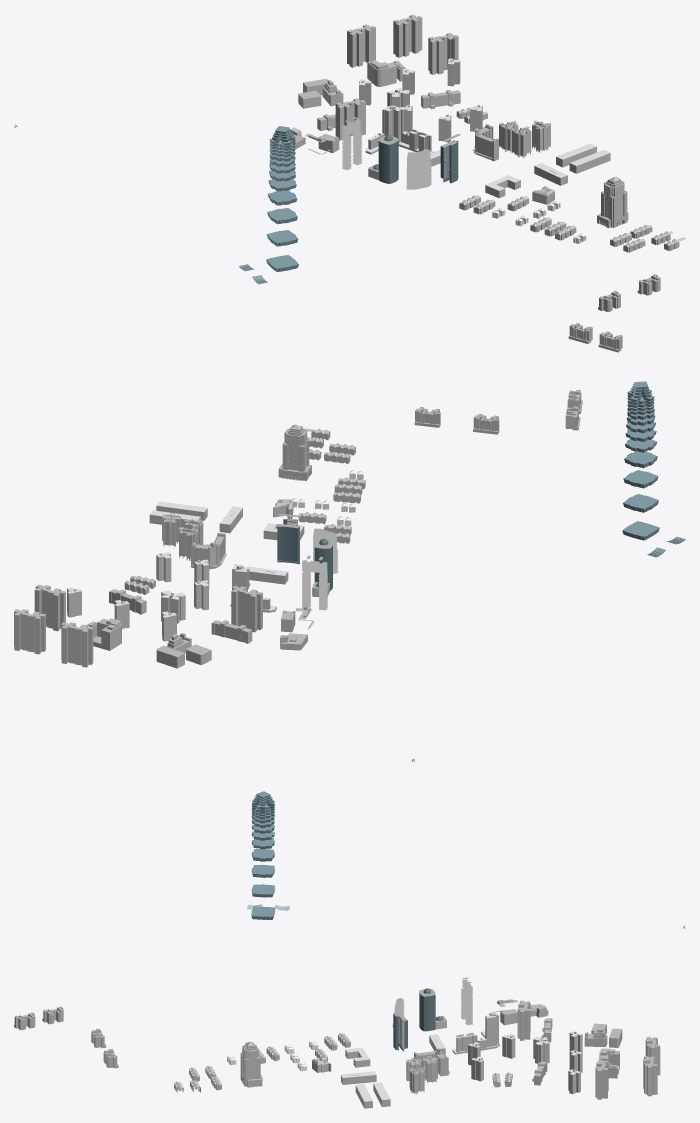
Rendered from lujiazui-37.glb.
3 views of the same model, one above another, from view 1: azimuth 30°, elevation 25°; view 2: azimuth 150°, elevation 25°; view 3: azimuth 270°, elevation 25° (orthographic). The views are drawn at different scales.
Visible parts, largest first — view 1: source_6189_Mat3d66-1303573-560-2734_part0, source_6210_房4_part0, source_4862_Mat3d66-1303573-2178-3161_part0, source_6186_Mat3d66-1303573-557-8885_part0, source_6240_Mat3d66-1303573-2154-1031_part0, source_6207_Mat3d66-1303573-11-3935_part0, source_6236_Mat3d66-1303573-306-9553_part0, source_5048_Mat3d66-1303573-200-2228_part0, source_4990_13区前排楼简模_xl_part0, source_4964_46_jz_part0, source_6211_房1_part0, source_6190_Mat3d66-1303573-561-717_part0 (+3 smaller); view 2: source_6189_Mat3d66-1303573-560-2734_part0, source_4862_Mat3d66-1303573-2178-3161_part0, source_6210_房4_part0, source_6186_Mat3d66-1303573-557-8885_part0, source_6240_Mat3d66-1303573-2154-1031_part0, source_6207_Mat3d66-1303573-11-3935_part0, source_5048_Mat3d66-1303573-200-2228_part0, source_4964_46_jz_part0, source_6236_Mat3d66-1303573-306-9553_part0, source_4990_13区前排楼简模_xl_part0, source_6190_Mat3d66-1303573-561-717_part0, source_6193_Mat3d66-1303573-564-4755_part0 (+2 smaller); view 3: source_6210_房4_part0, source_4862_Mat3d66-1303573-2178-3161_part0, source_6189_Mat3d66-1303573-560-2734_part0, source_6186_Mat3d66-1303573-557-8885_part0, source_6207_Mat3d66-1303573-11-3935_part0, source_6236_Mat3d66-1303573-306-9553_part0, source_5048_Mat3d66-1303573-200-2228_part0, source_6240_Mat3d66-1303573-2154-1031_part0, source_4990_13区前排楼简模_xl_part0, source_4964_46_jz_part0, source_6190_Mat3d66-1303573-561-717_part0, source_6211_房1_part0.
Boxes of the visible parts, bbox=[...] form: source_6189_Mat3d66-1303573-560-2734_part0: bbox=[335, 14, 458, 140]; source_6210_房4_part0: bbox=[359, 59, 610, 198]; source_4862_Mat3d66-1303573-2178-3161_part0: bbox=[239, 126, 298, 284]; source_6186_Mat3d66-1303573-557-8885_part0: bbox=[456, 106, 685, 252]; source_6240_Mat3d66-1303573-2154-1031_part0: bbox=[342, 117, 460, 189]; source_6207_Mat3d66-1303573-11-3935_part0: bbox=[359, 58, 610, 190]; source_6236_Mat3d66-1303573-306-9553_part0: bbox=[373, 135, 458, 183]; source_5048_Mat3d66-1303573-200-2228_part0: bbox=[568, 274, 660, 352]; source_4990_13区前排楼简模_xl_part0: bbox=[499, 120, 550, 158]; source_4964_46_jz_part0: bbox=[597, 176, 628, 228]; source_6211_房1_part0: bbox=[382, 90, 409, 139]; source_6190_Mat3d66-1303573-561-717_part0: bbox=[290, 60, 585, 239]; source_6189_Mat3d66-1303573-560-2734_part0: bbox=[14, 584, 262, 667]; source_4862_Mat3d66-1303573-2178-3161_part0: bbox=[622, 381, 685, 557]; source_6210_房4_part0: bbox=[67, 506, 304, 641]; source_6186_Mat3d66-1303573-557-8885_part0: bbox=[124, 428, 365, 594]; source_6240_Mat3d66-1303573-2154-1031_part0: bbox=[277, 513, 338, 610]; source_6207_Mat3d66-1303573-11-3935_part0: bbox=[67, 501, 303, 617]; source_5048_Mat3d66-1303573-200-2228_part0: bbox=[414, 389, 582, 434]; source_4964_46_jz_part0: bbox=[278, 424, 311, 480]; source_6236_Mat3d66-1303573-306-9553_part0: bbox=[277, 518, 332, 590]; source_4990_13区前排楼简模_xl_part0: bbox=[162, 513, 203, 560]; source_6190_Mat3d66-1303573-561-717_part0: bbox=[86, 473, 360, 656]; source_6193_Mat3d66-1303573-564-4755_part0: bbox=[109, 589, 252, 643]; source_6210_房4_part0: bbox=[341, 1033, 582, 1108]; source_4862_Mat3d66-1303573-2178-3161_part0: bbox=[247, 791, 289, 919]; source_6189_Mat3d66-1303573-560-2734_part0: bbox=[517, 1000, 660, 1099]; source_6186_Mat3d66-1303573-557-8885_part0: bbox=[174, 1033, 512, 1092]; source_6207_Mat3d66-1303573-11-3935_part0: bbox=[341, 1011, 581, 1101]; source_6236_Mat3d66-1303573-306-9553_part0: bbox=[393, 988, 443, 1050]; source_5048_Mat3d66-1303573-200-2228_part0: bbox=[14, 1006, 118, 1068]; source_6240_Mat3d66-1303573-2154-1031_part0: bbox=[392, 977, 472, 1048]; source_4990_13区前排楼简模_xl_part0: bbox=[406, 1055, 437, 1094]; source_4964_46_jz_part0: bbox=[240, 1041, 262, 1087]; source_6190_Mat3d66-1303573-561-717_part0: bbox=[228, 999, 622, 1070]; source_6211_房1_part0: bbox=[485, 1013, 549, 1063].
Bounding box in the file's own units: 1005 × 386 × 1582.
